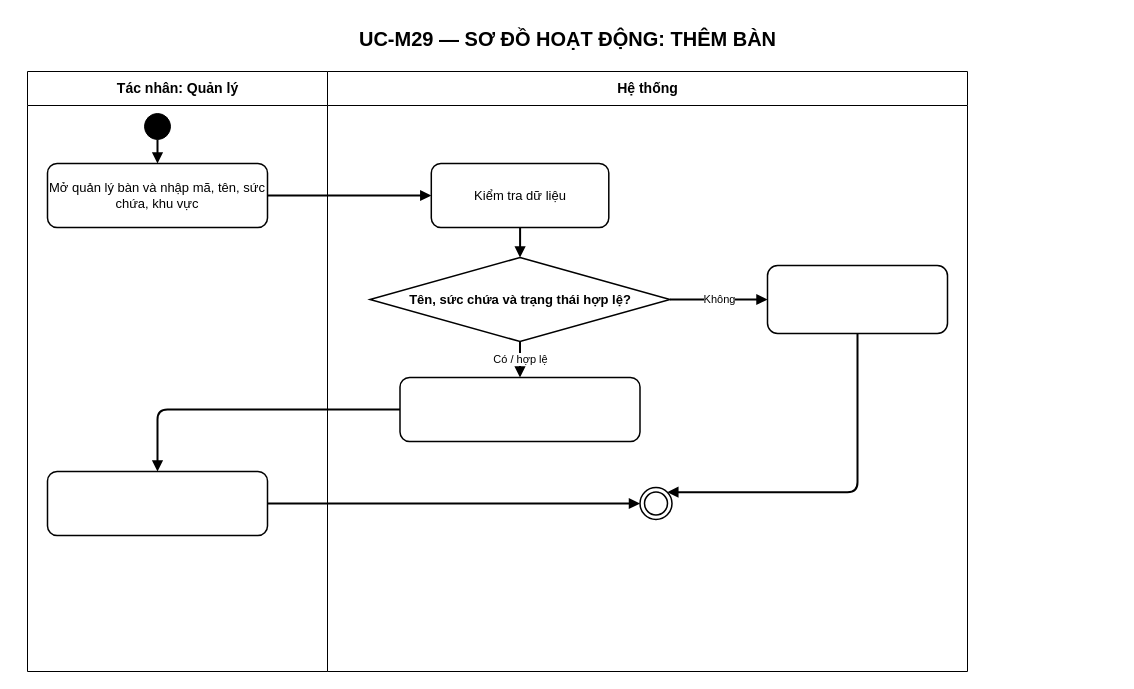
Image size: 1134x689. Some labels were removed from this diagram. The shapes that lost their labels are listed below. From the top down, each one's box as (x1, y1, x2, y2) in pixels, then its label:
(766, 264, 948, 334): Báo lỗi dữ liệu
(399, 376, 640, 442): Tạo bàn mới
(46, 470, 268, 536): Bàn mới xuất hiện trên lưới bàn
